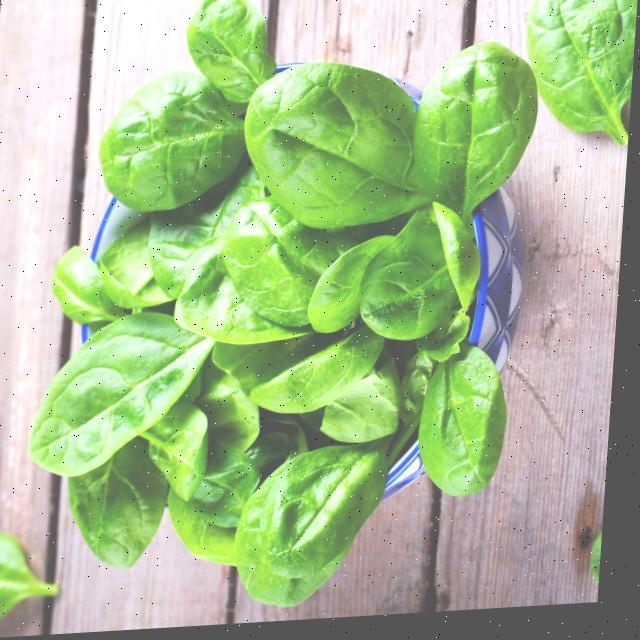Spinach: (11, 0, 550, 632), (508, 0, 640, 169)
